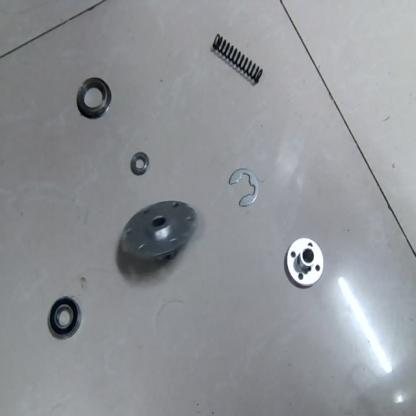FOD: (116, 197, 201, 273), (210, 26, 269, 90), (285, 237, 327, 286), (46, 292, 85, 343), (75, 78, 113, 119), (225, 168, 261, 208), (128, 150, 152, 178)
